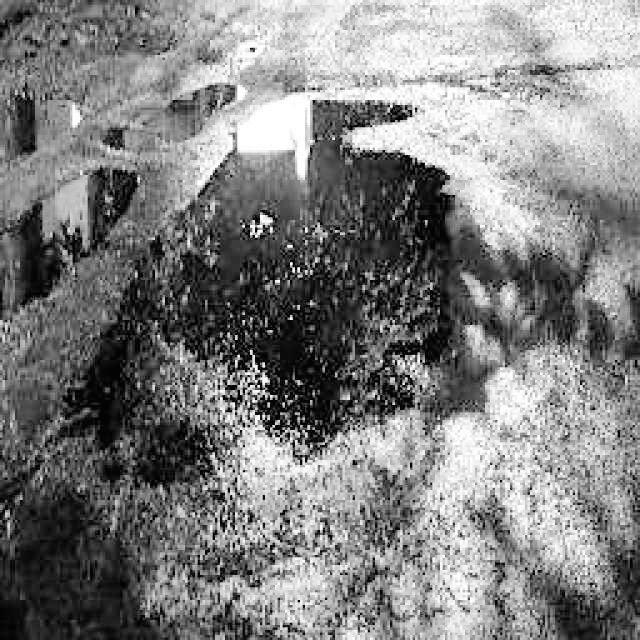Pothole: (62, 86, 460, 467), (0, 168, 139, 311), (101, 77, 247, 154), (1, 86, 89, 167)
